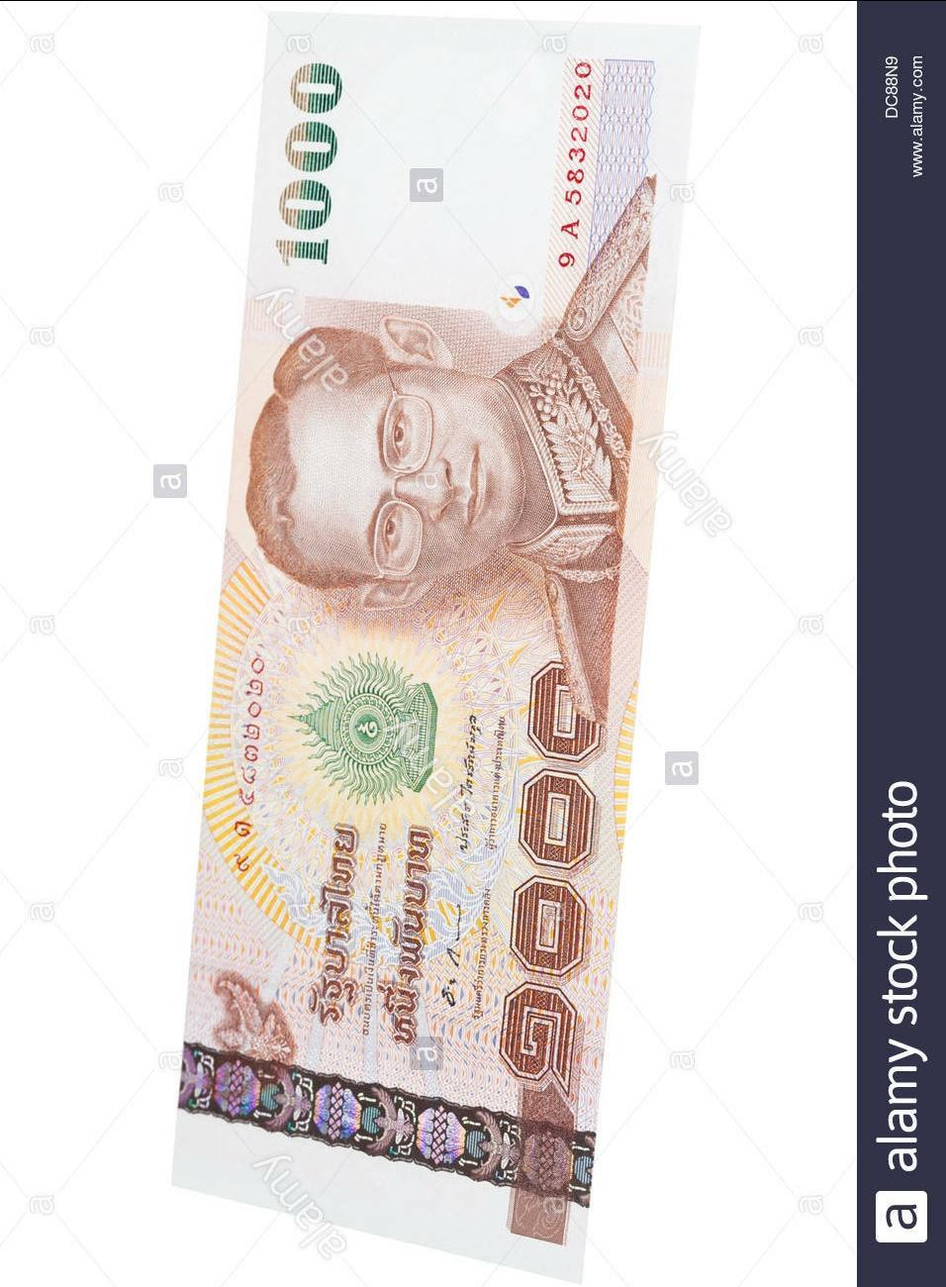1000BahtTai: (170, 10, 706, 1228)
